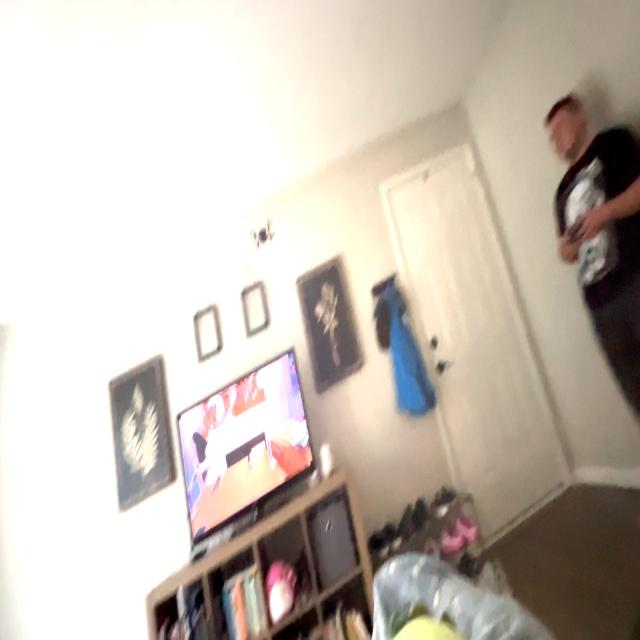drone: (237, 205, 280, 251)
